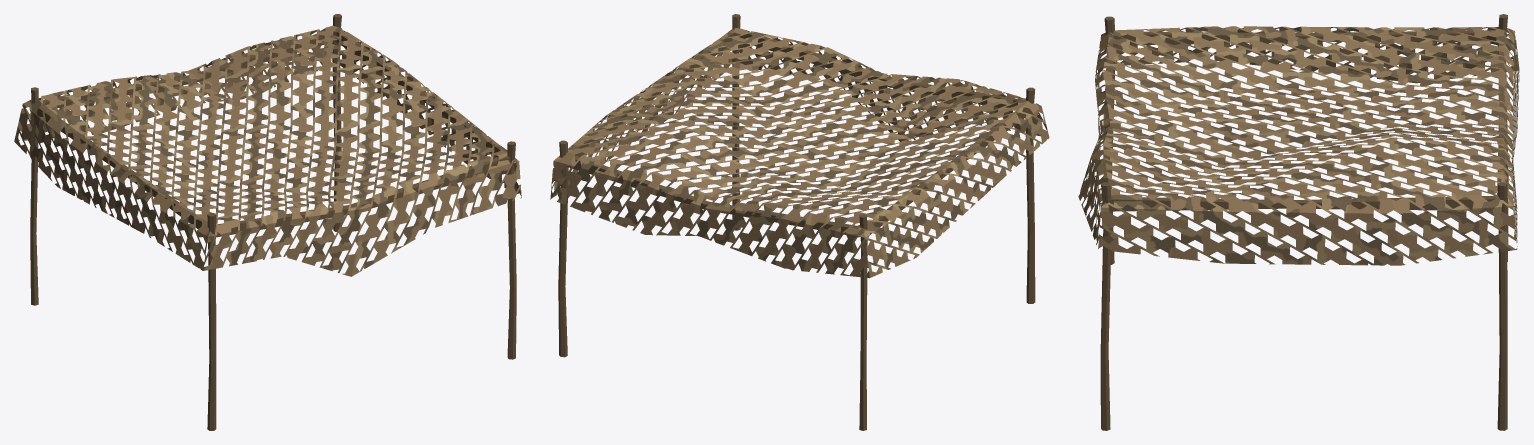
The model's file is SM_Bld_CamoNet_Tent_01.glb.
The picture shows the model from 3 angles, left to right: view 1: azimuth 30°, elevation 25°; view 2: azimuth 150°, elevation 25°; view 3: azimuth 270°, elevation 25°; orthographic projection. The views are drawn at different scales.
Visible parts, largest first — view 1: SM_Bld_CamoNet_Tent_01; view 2: SM_Bld_CamoNet_Tent_01; view 3: SM_Bld_CamoNet_Tent_01.
Part boxes in pixels (left/top/right/bottom): SM_Bld_CamoNet_Tent_01: left=14, top=14, right=521, bottom=430; SM_Bld_CamoNet_Tent_01: left=550, top=14, right=1049, bottom=430; SM_Bld_CamoNet_Tent_01: left=1078, top=14, right=1519, bottom=430.
Bounding box in the file's own units: 4.91 × 3.01 × 4.92.
2 materials, 2 textured.
